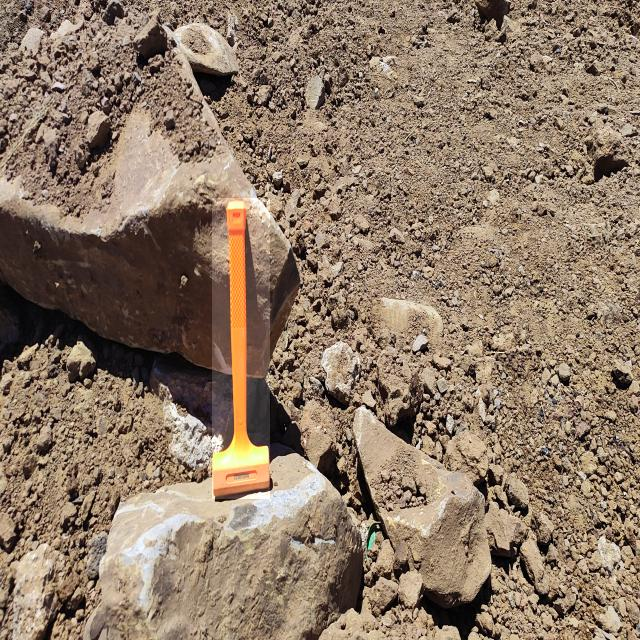Orange_hammer: (212, 198, 270, 499)
